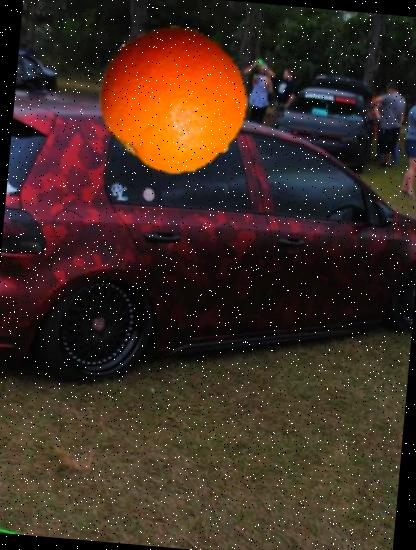Orange: (92, 18, 256, 181)
